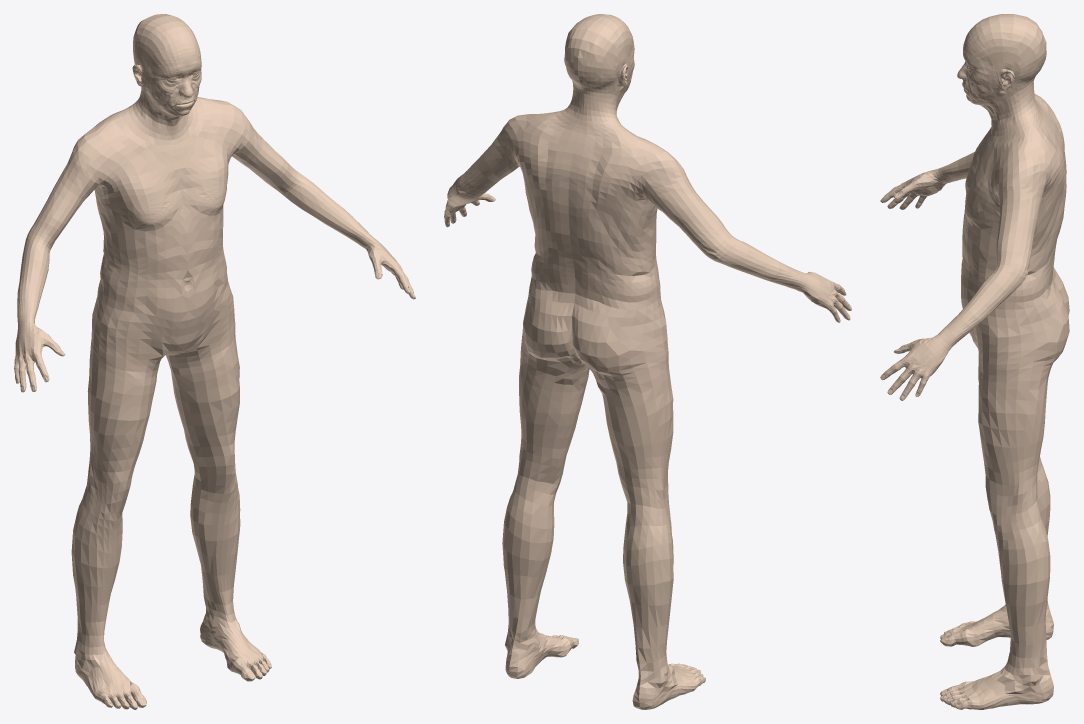
Rendered from male-older-average-low.glb.
3 views of the same model, side by side, from view 1: azimuth 30°, elevation 25°; view 2: azimuth 150°, elevation 25°; view 3: azimuth 270°, elevation 25° (orthographic).
Visible parts, largest first — view 1: world; view 2: world; view 3: world.
Part boxes in pixels (bbox=[...]): world: bbox=[14, 14, 415, 709]; world: bbox=[444, 14, 851, 709]; world: bbox=[880, 14, 1069, 709].
Bounding box in the file's own units: 1.21 × 1.93 × 0.5045.
